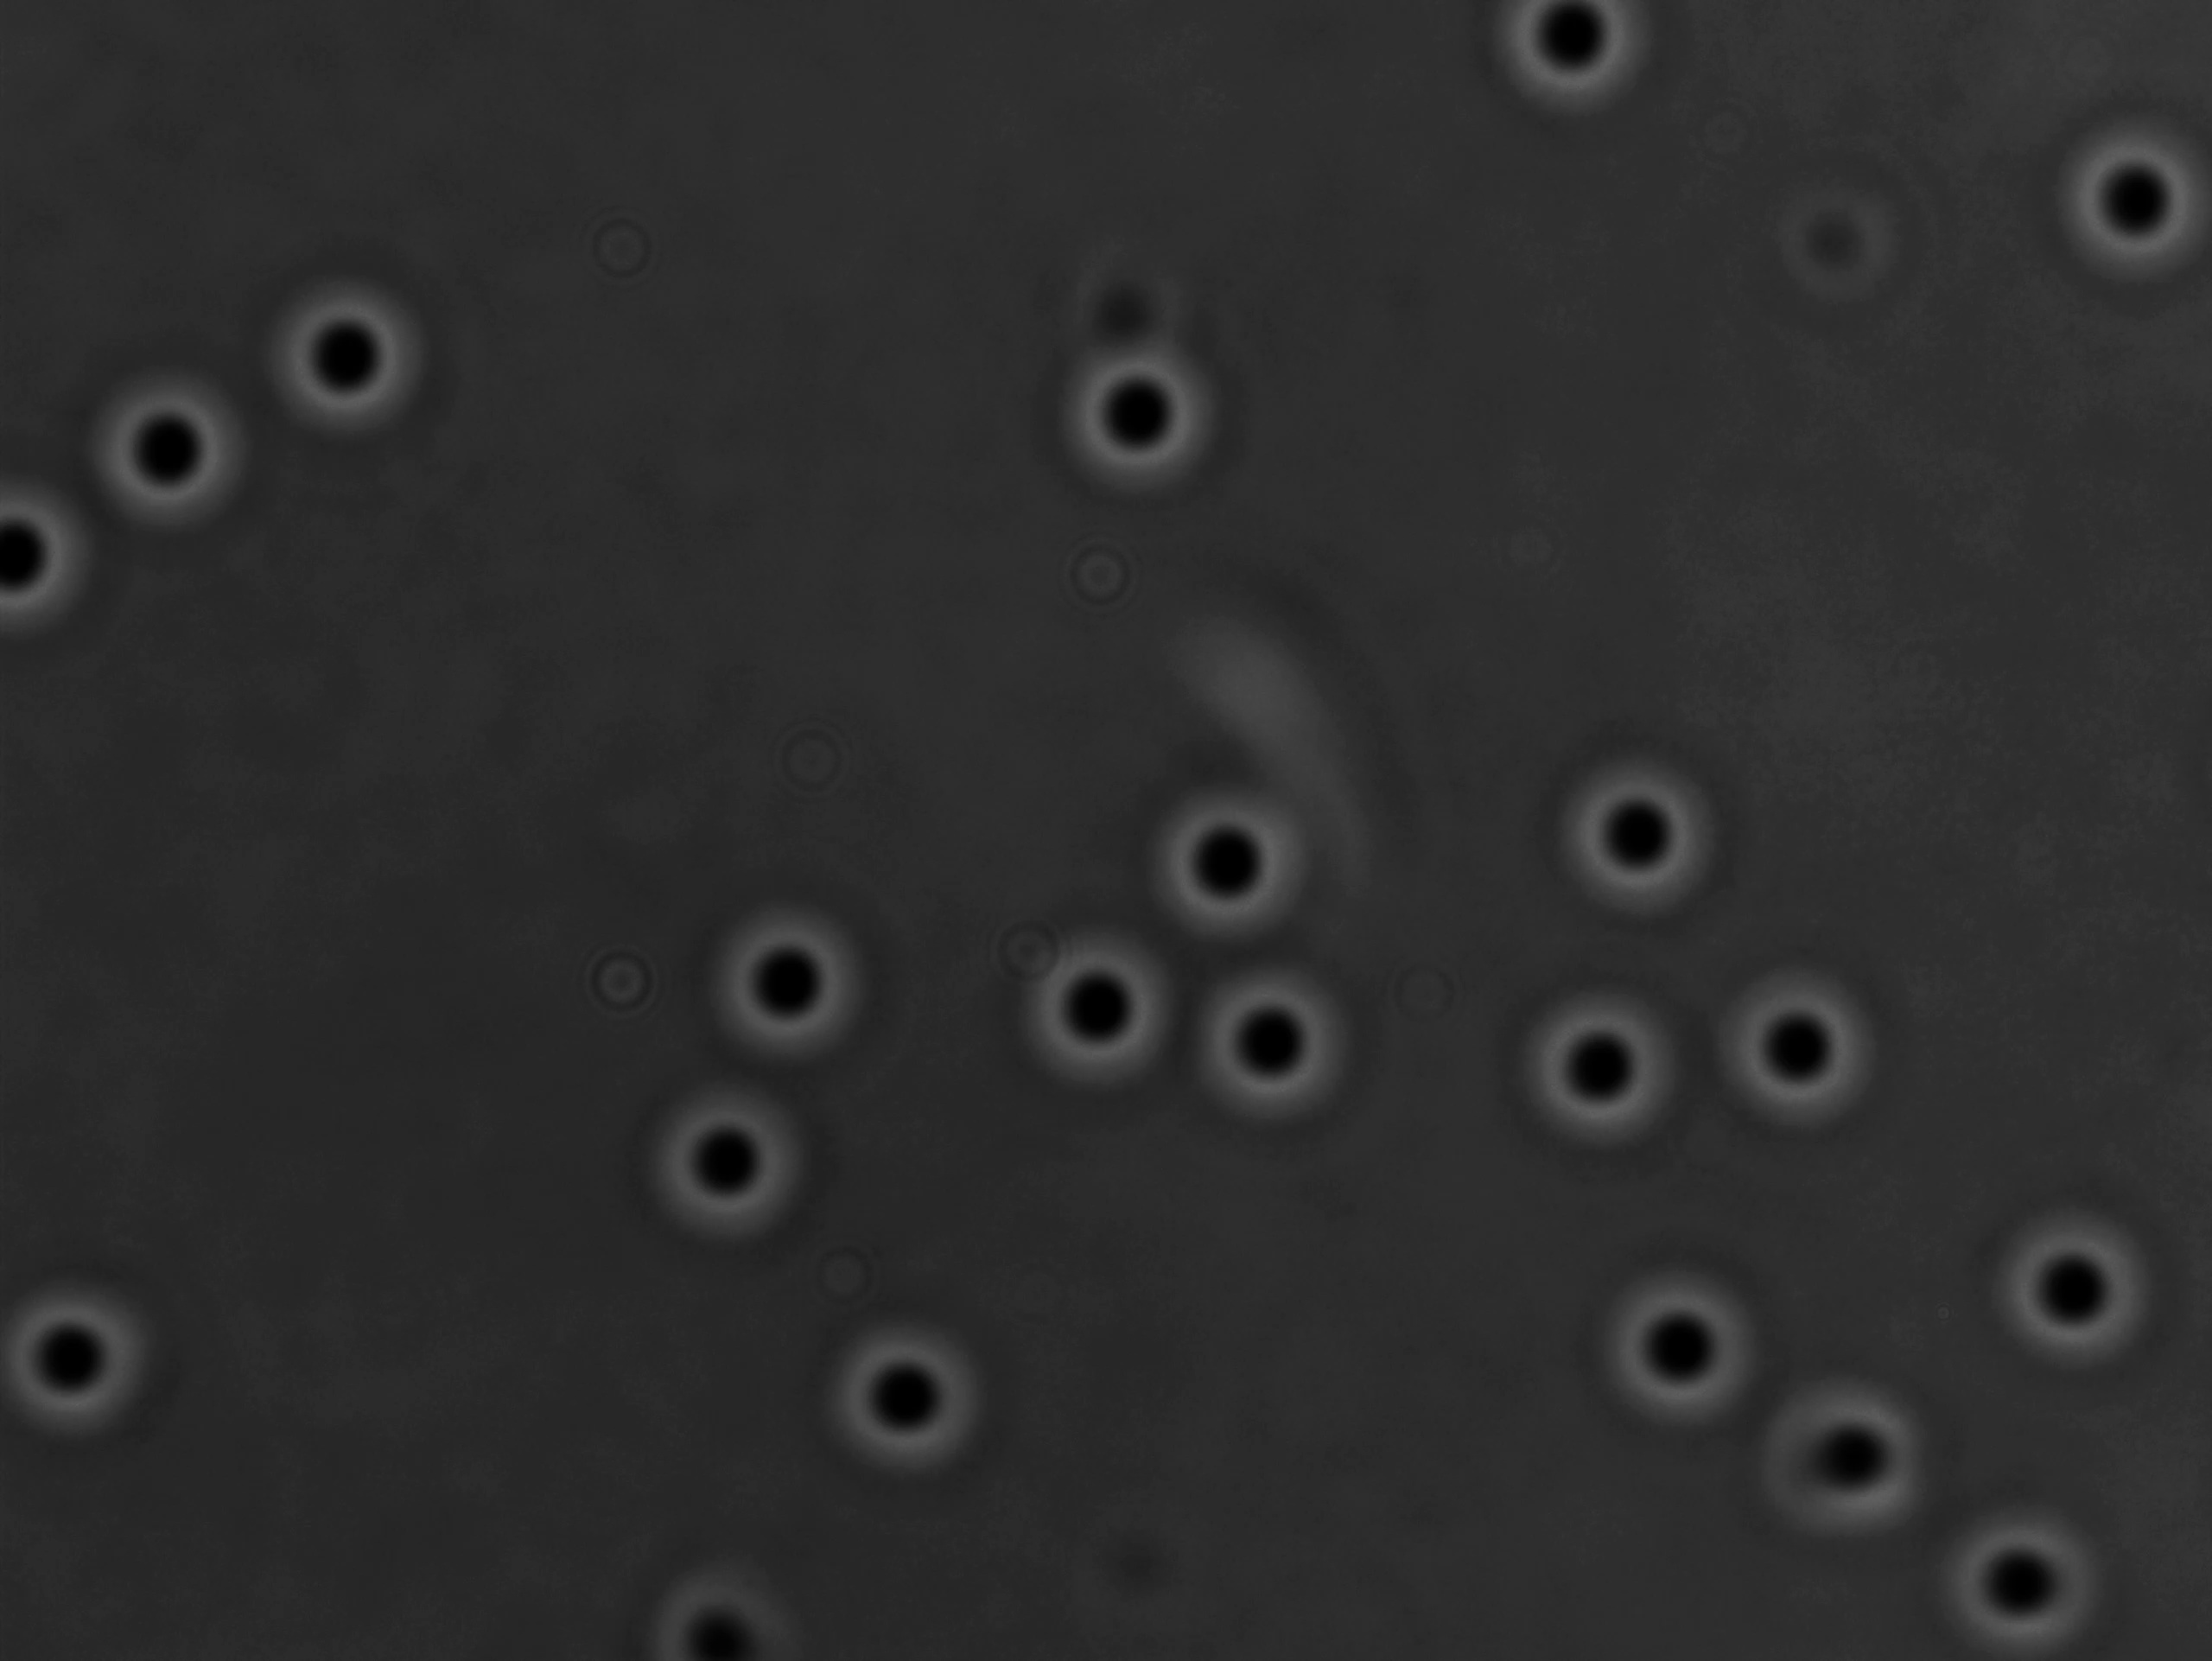depth:-80: (808, 1282, 1021, 1494), (611, 1054, 827, 1261), (1132, 754, 1345, 961), (994, 907, 1207, 1111), (673, 862, 888, 1063), (1968, 1185, 2174, 1392), (1038, 293, 1240, 502), (1699, 947, 1901, 1141), (1505, 967, 1703, 1160), (66, 351, 260, 546), (1532, 738, 1729, 926), (1915, 1490, 2125, 1661), (1577, 1247, 1760, 1441), (258, 263, 454, 445), (1186, 961, 1380, 1143), (1739, 1370, 1938, 1542), (2038, 106, 2210, 291)
